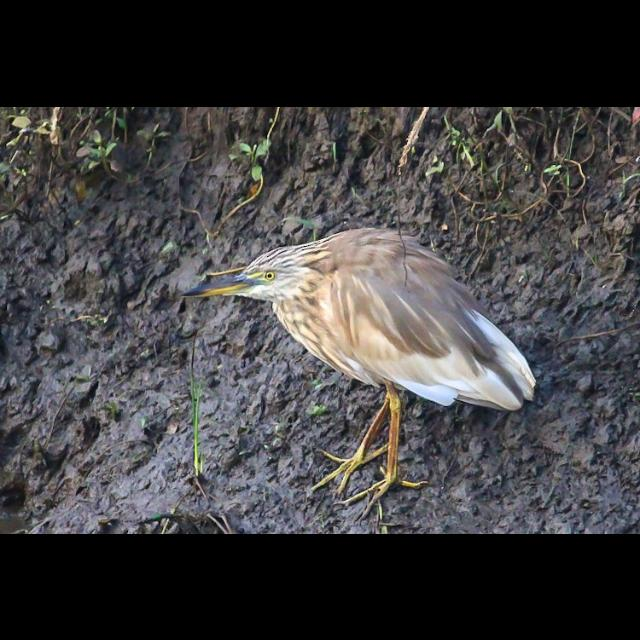heron: (179, 227, 536, 488)
